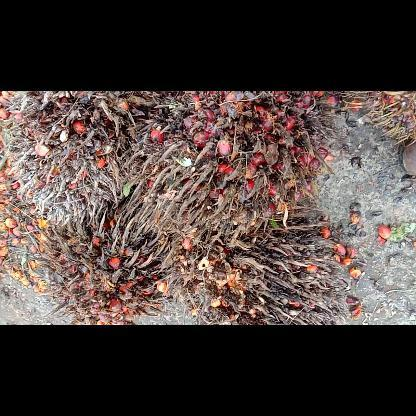Terlalu masak: (116, 91, 332, 255), (161, 200, 353, 324), (0, 90, 161, 228), (28, 210, 178, 324)
